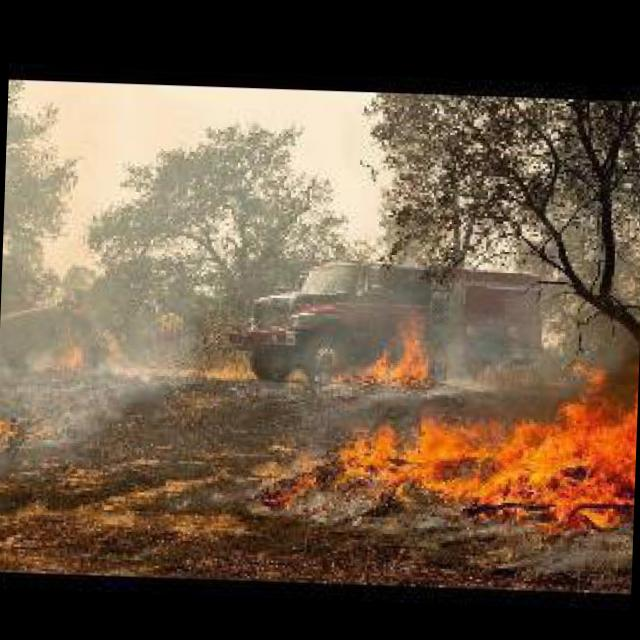fire: (323, 308, 640, 530), (328, 308, 429, 389), (47, 341, 88, 368)
